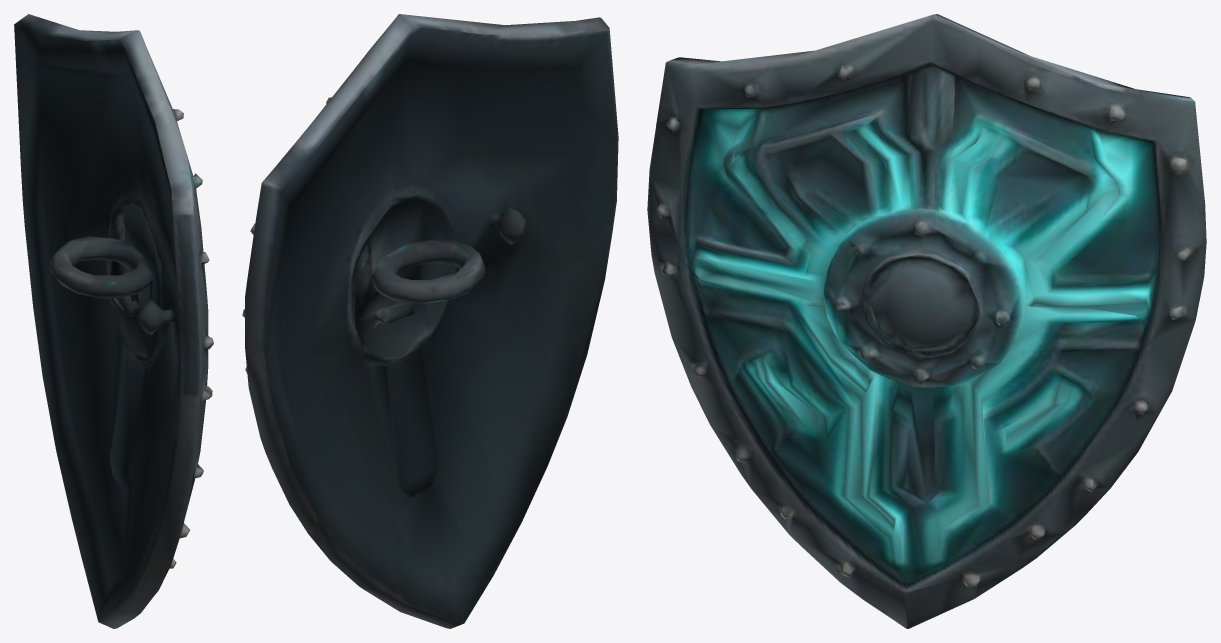
Rendered from BOUCLIER_GARDIEN.glb.
3 renders of one model, left to right at view 1: azimuth 30°, elevation 25°; view 2: azimuth 150°, elevation 25°; view 3: azimuth 270°, elevation 25°, orthographic. The views are drawn at different scales.
Parts seen in each view (by area): view 1: ARMURE_2_1; view 2: ARMURE_2_1; view 3: ARMURE_2_1.
Part boxes in pixels (left/top/right/bottom): ARMURE_2_1: left=14, top=14, right=213, bottom=628; ARMURE_2_1: left=242, top=14, right=618, bottom=628; ARMURE_2_1: left=647, top=14, right=1206, bottom=628.
Bounding box in the file's own units: 0.1393 × 0.594 × 0.4762.
Materials: 1 (1 with a texture image).
